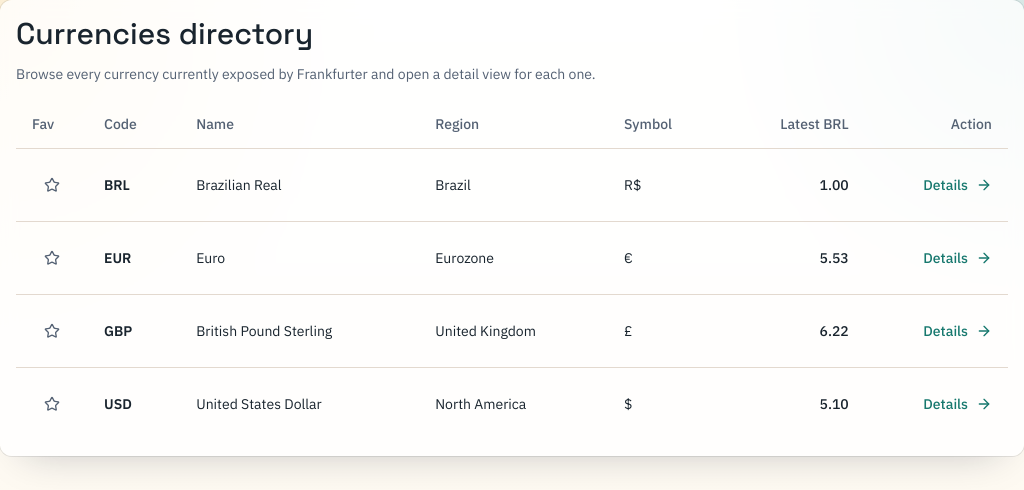
it: CurrenciesTable › allows favoriting and unfavoriting a currency
This screenshot has width=1024, height=490.
Click the button named "add usd to favorites" at (52, 404), box [32,384,72,424]
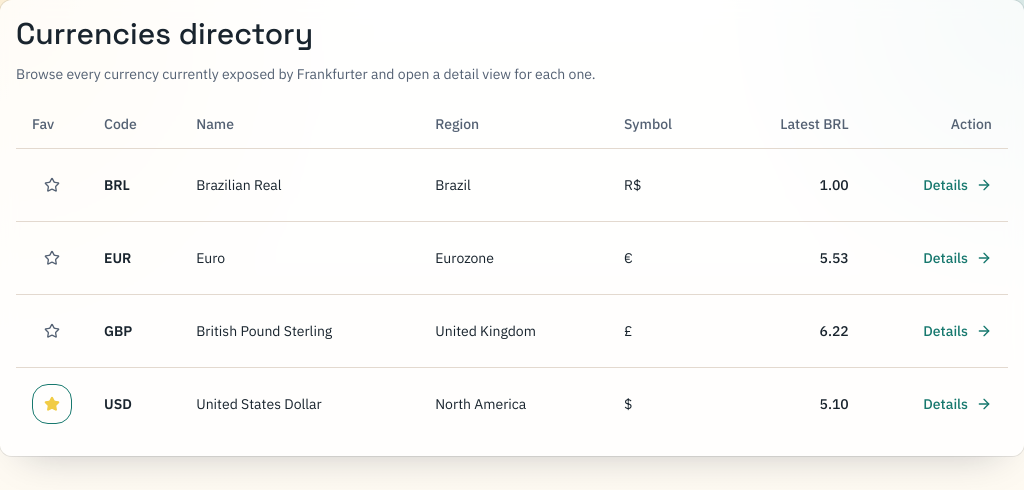
Now the button named "remove usd from favorites" is shown, box [32,384,72,424]
